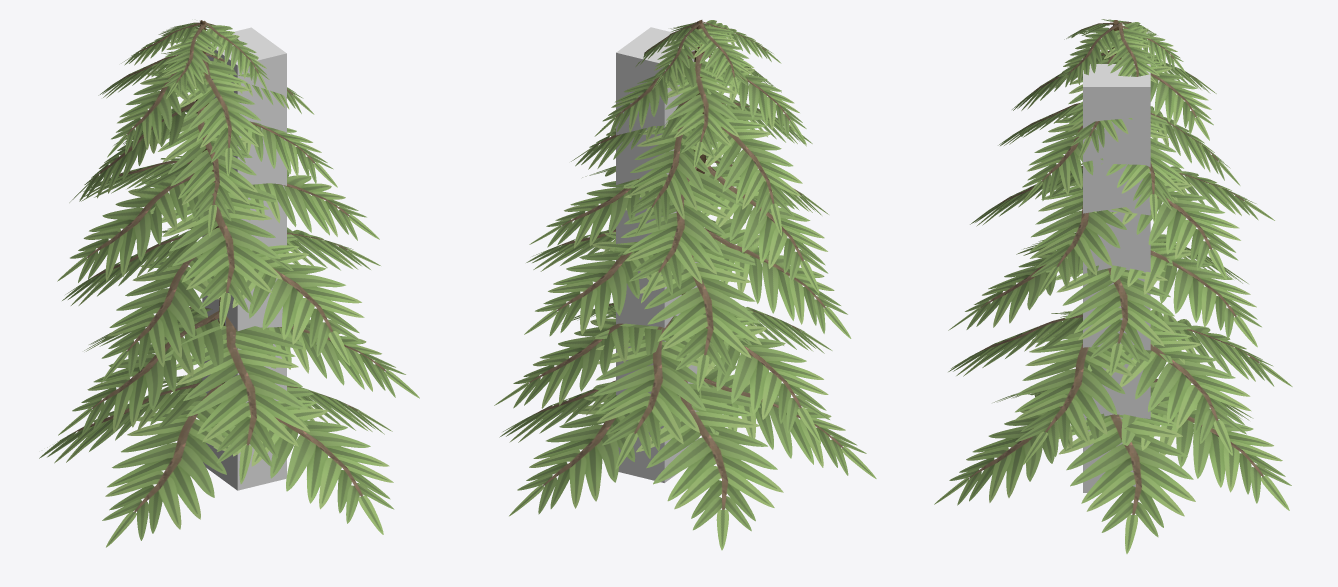
Rendered from pine_green_2.glb.
3 views of the same model, side by side, from view 1: azimuth 30°, elevation 25°; view 2: azimuth 150°, elevation 25°; view 3: azimuth 270°, elevation 25° (orthographic). The views are drawn at different scales.
Visible parts, largest first — view 1: Pine_2, Cube.003; view 2: Pine_2, Cube.003; view 3: Pine_2, Cube.003.
Part boxes in pixels (x1,y1,x2,y2): Pine_2: (39,20,419,547); Cube.003: (202,27,286,490); Pine_2: (494,20,876,550); Cube.003: (616,27,699,482); Pine_2: (934,19,1292,553); Cube.003: (1083,64,1150,492).
Size of the model in its own units: 7.94 by 10.01 by 8.14.
Materials: 2 (2 with a texture image).
